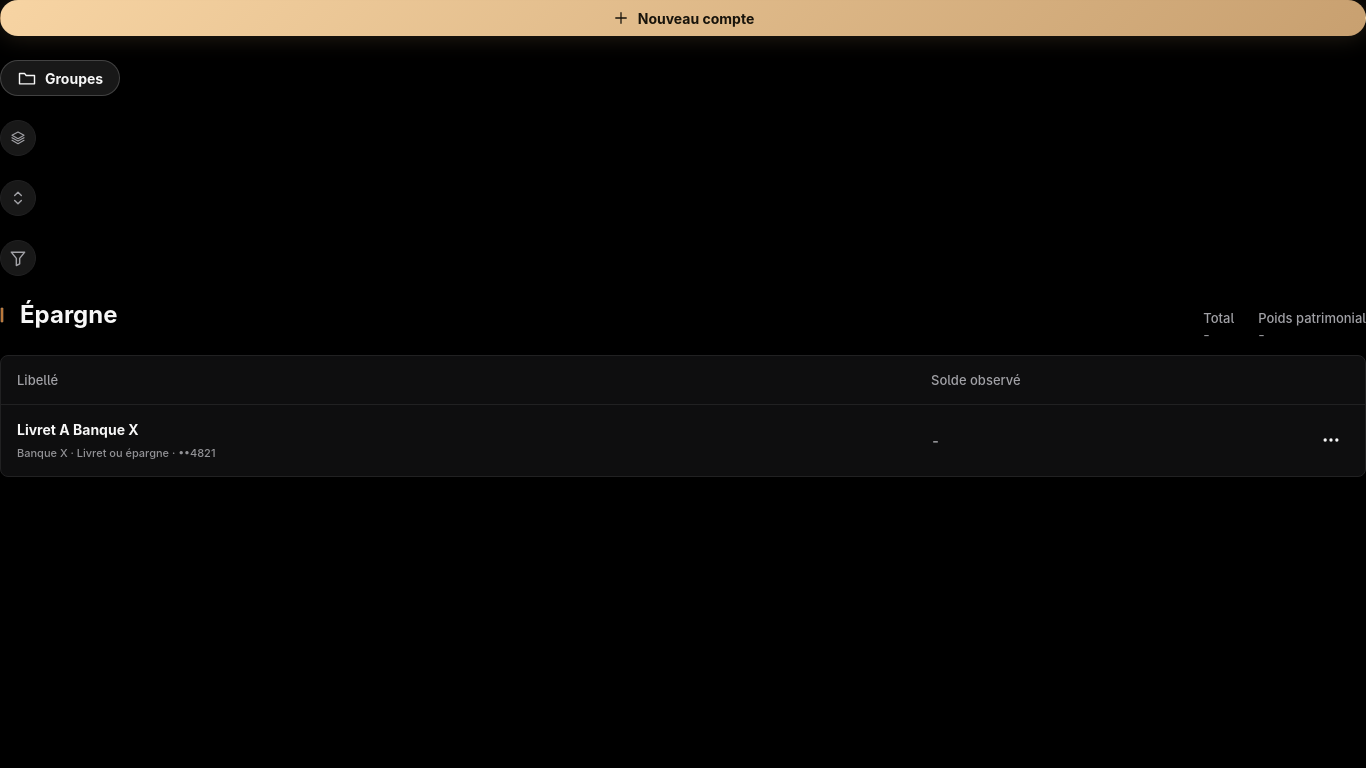
Test: AccountsPage › keeps the kind locked when the attached template cannot be read
What coordinates should you click on to do the following:
click the button named "Actions du compte Livret A Banque X"
I would click on:
 (1331, 440)
Its box is [1313, 422, 1349, 458].
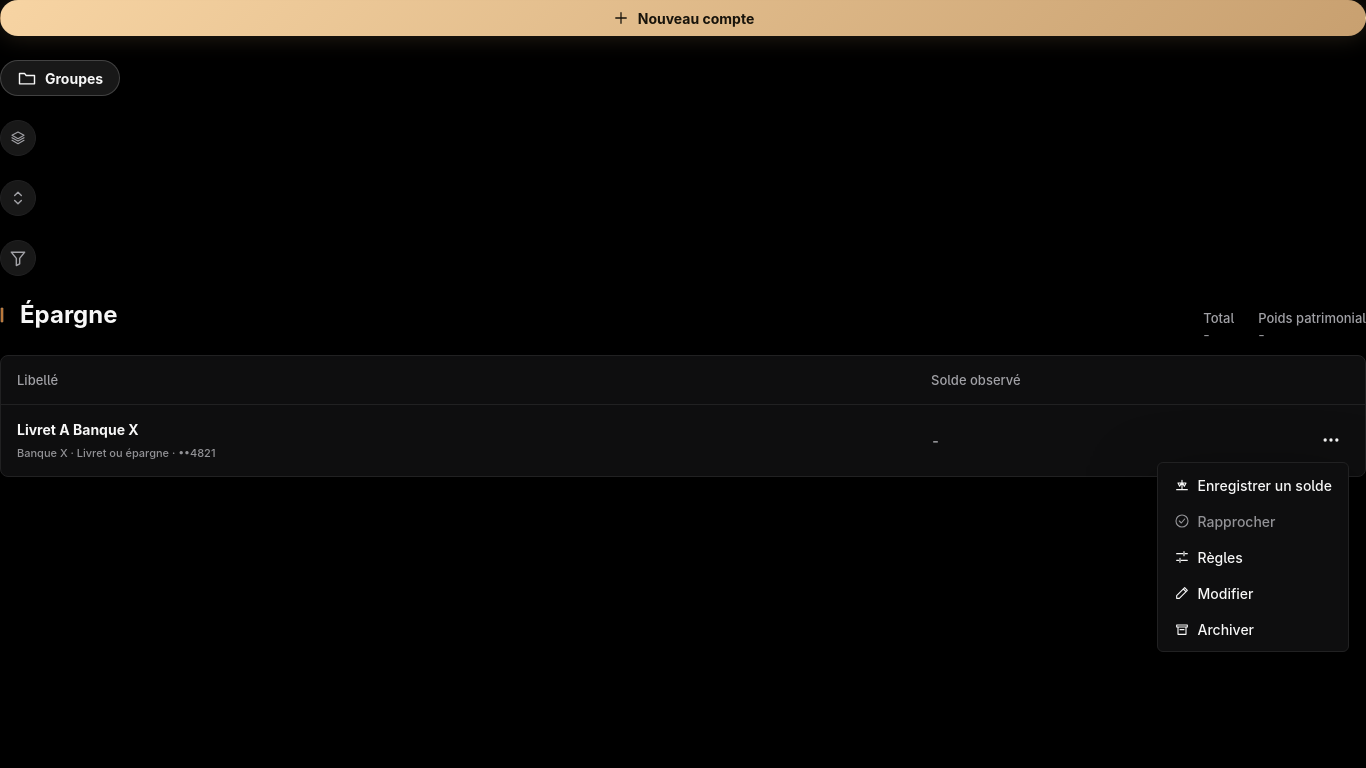
What coordinates should you click on to do the following:
click the button with aria-label "Modifier le compte Livret A Banque X"
I would click on:
 (1253, 593)
Its box is [1162, 575, 1344, 611].
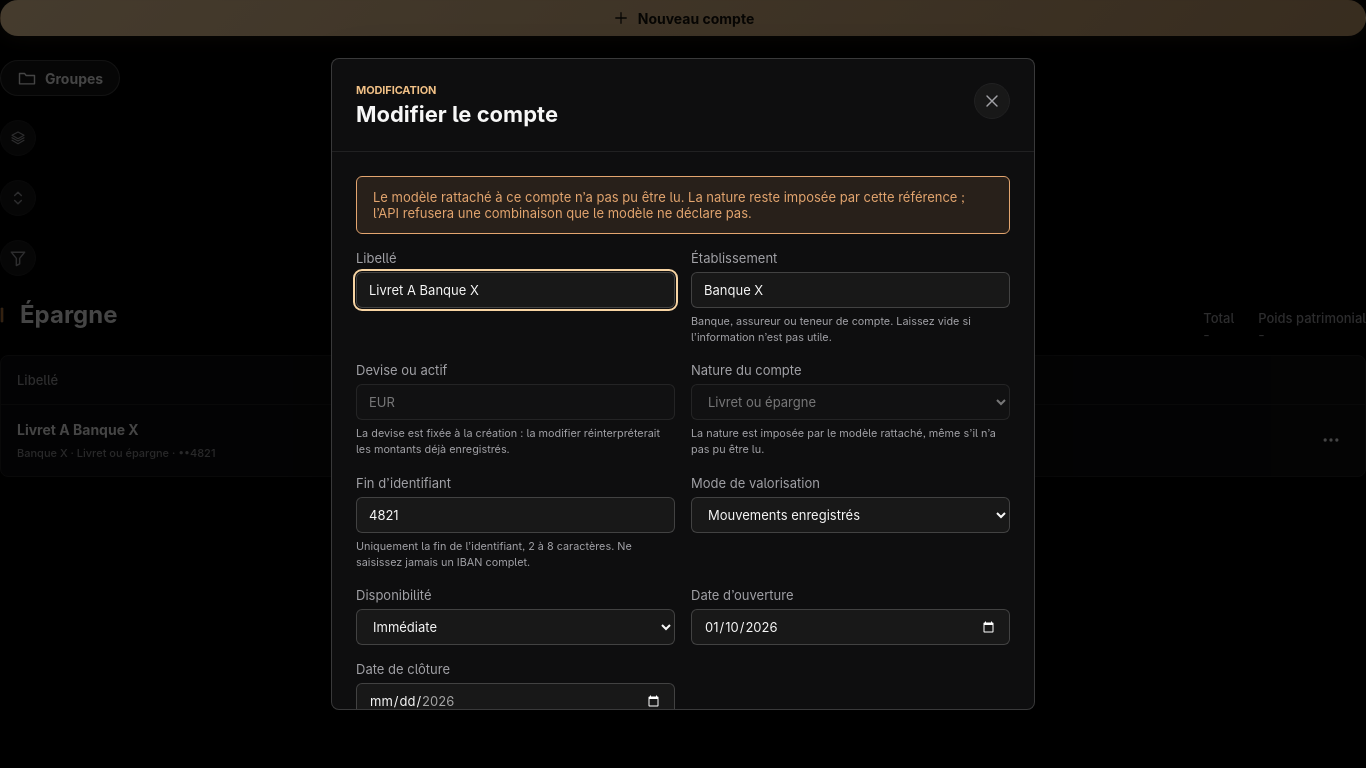
Result: the text "Le modèle rattaché à ce compte n’a pas pu être lu. La nature reste imposée par cette référence ; l’API refusera une comb" is shown at [373, 189, 965, 221]
Result: the dropdown labelled "Nature du compte" is disabled at [691, 384, 1010, 420]
Result: the text "La nature est imposée par le modèle rattaché, même s’il n’a pas pu être lu." is shown at [691, 426, 1010, 459]
